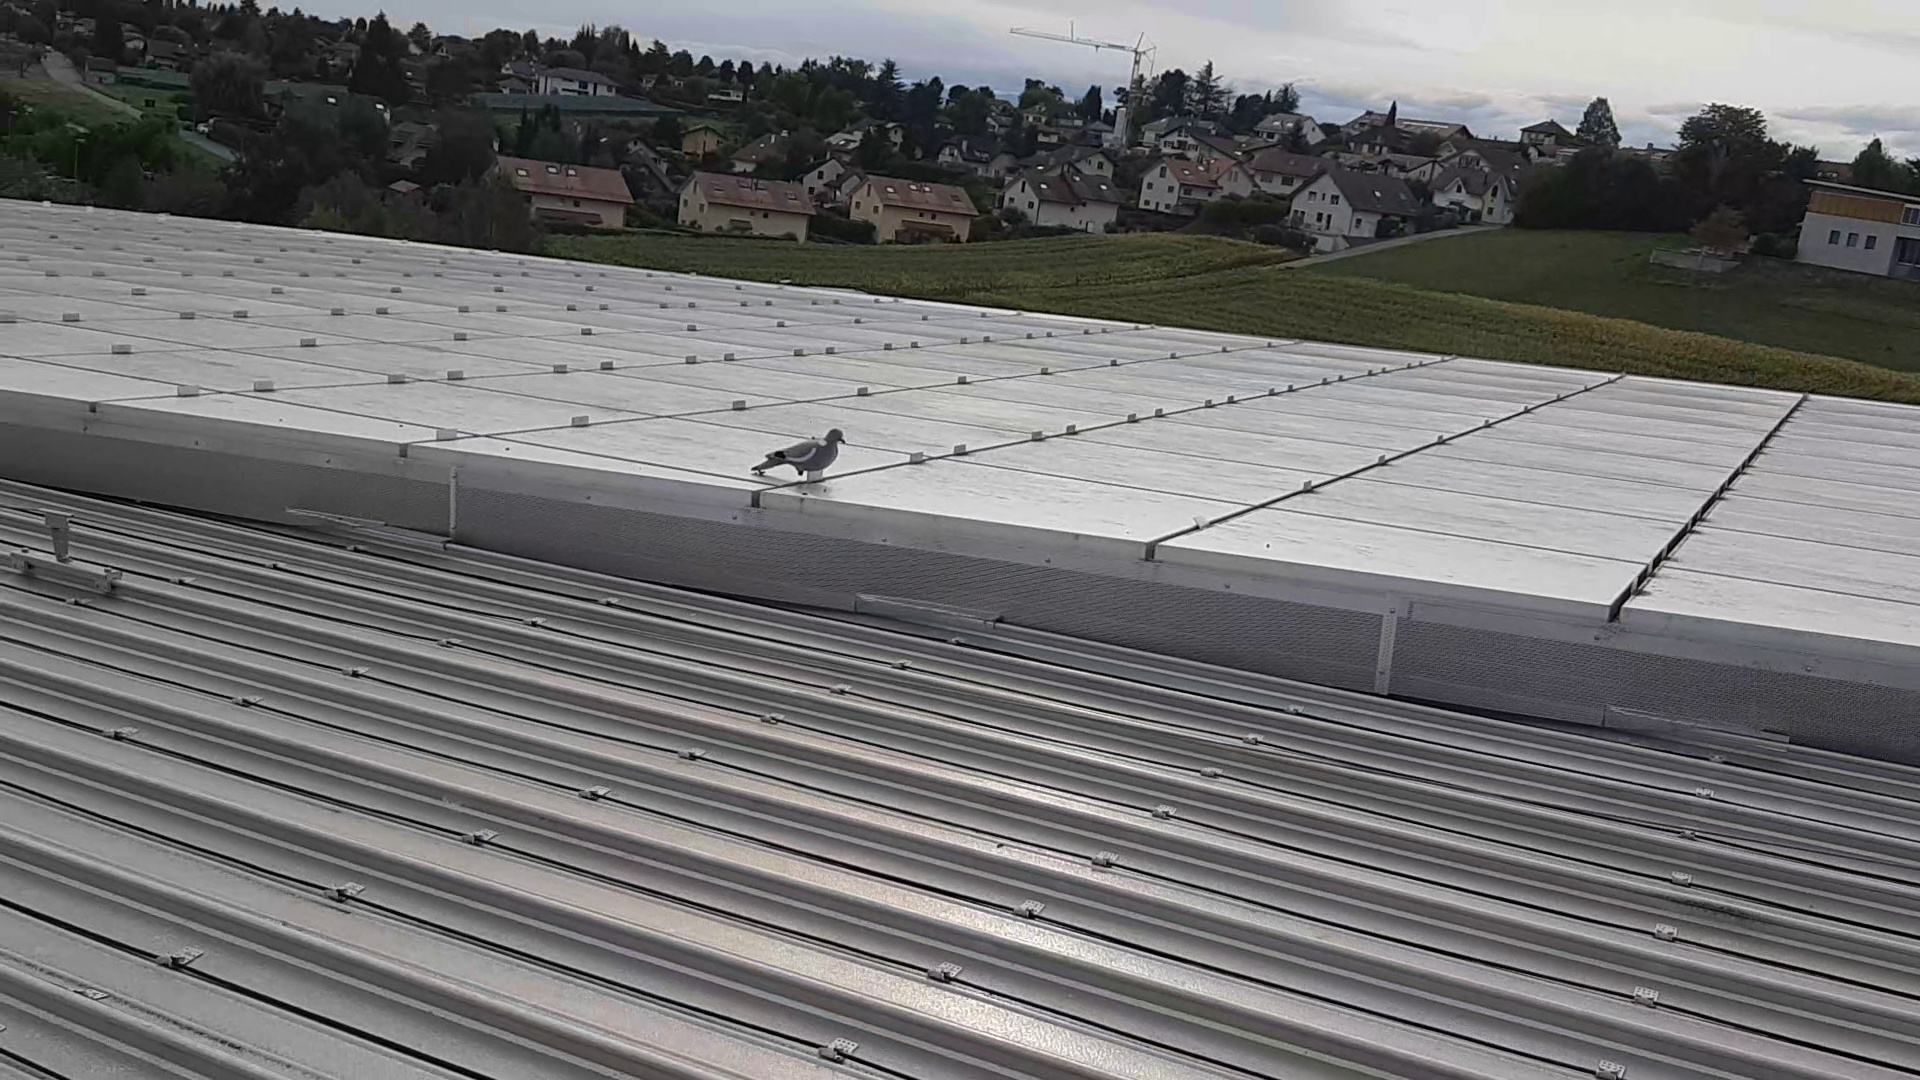Pigeon: (744, 427, 849, 484)
